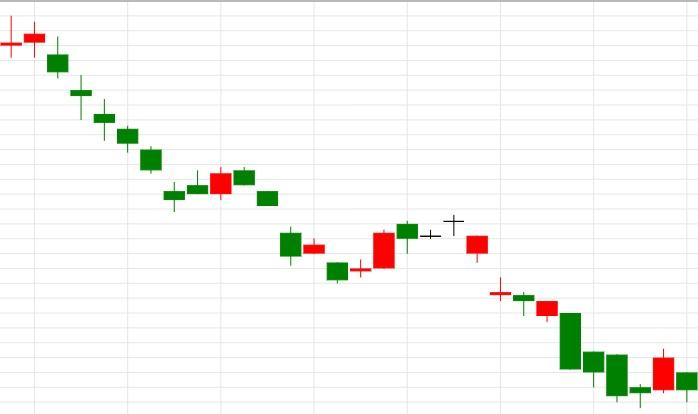morning_star_rise: (442, 215, 675, 409)
three_black_crows_fall: (163, 166, 303, 266)
